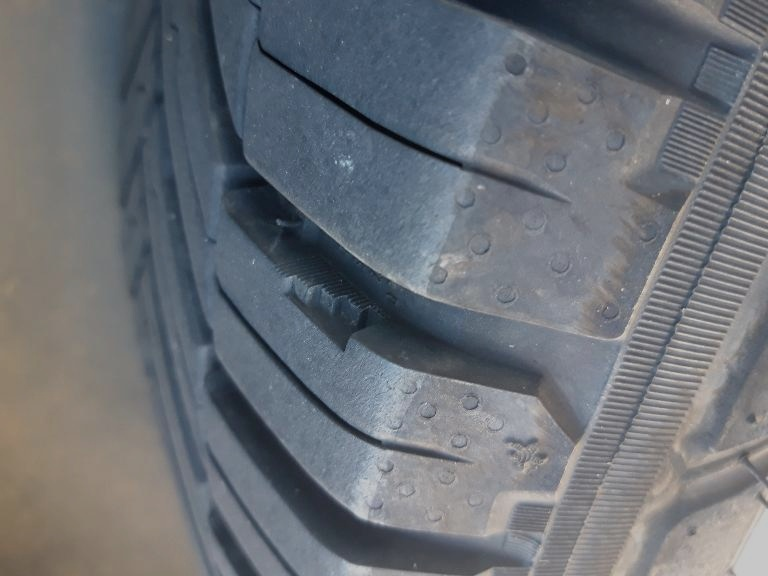temoin:90: (266, 251, 402, 360)
